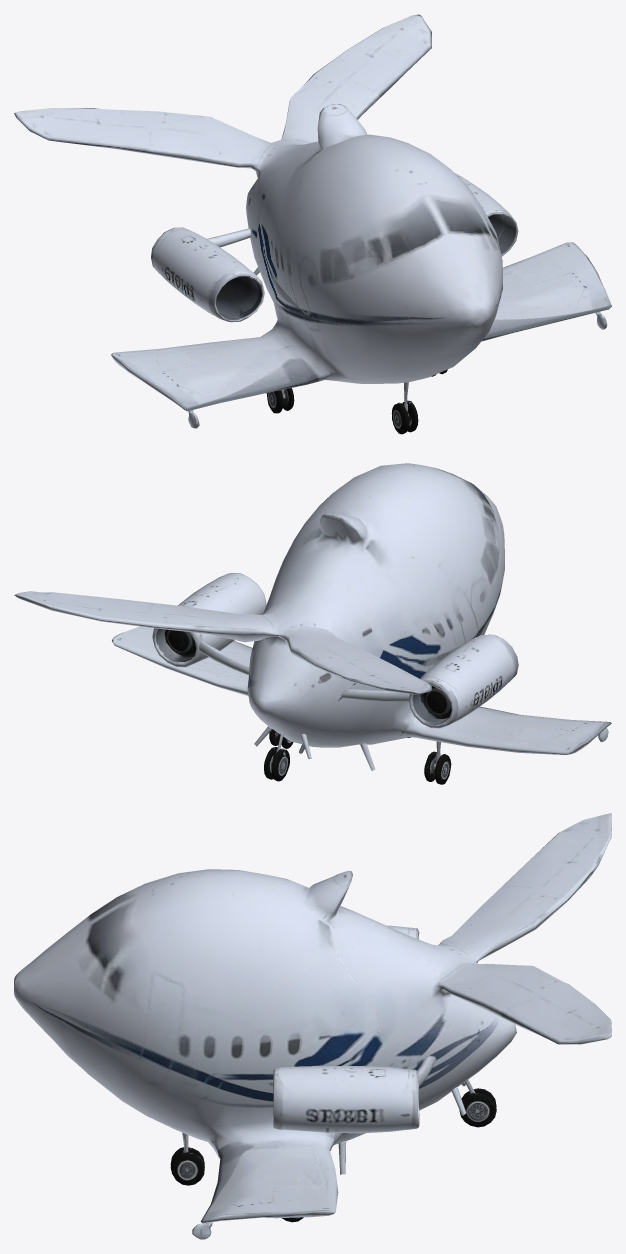
The model's file is meshy-airliner.glb.
3 views of the same model, one above another, from view 1: azimuth 30°, elevation 25°; view 2: azimuth 150°, elevation 25°; view 3: azimuth 270°, elevation 25° (orthographic). The views are drawn at different scales.
Size of the model in its own units: 1 by 0.5708 by 1.
Materials: 1 (1 with a texture image).
